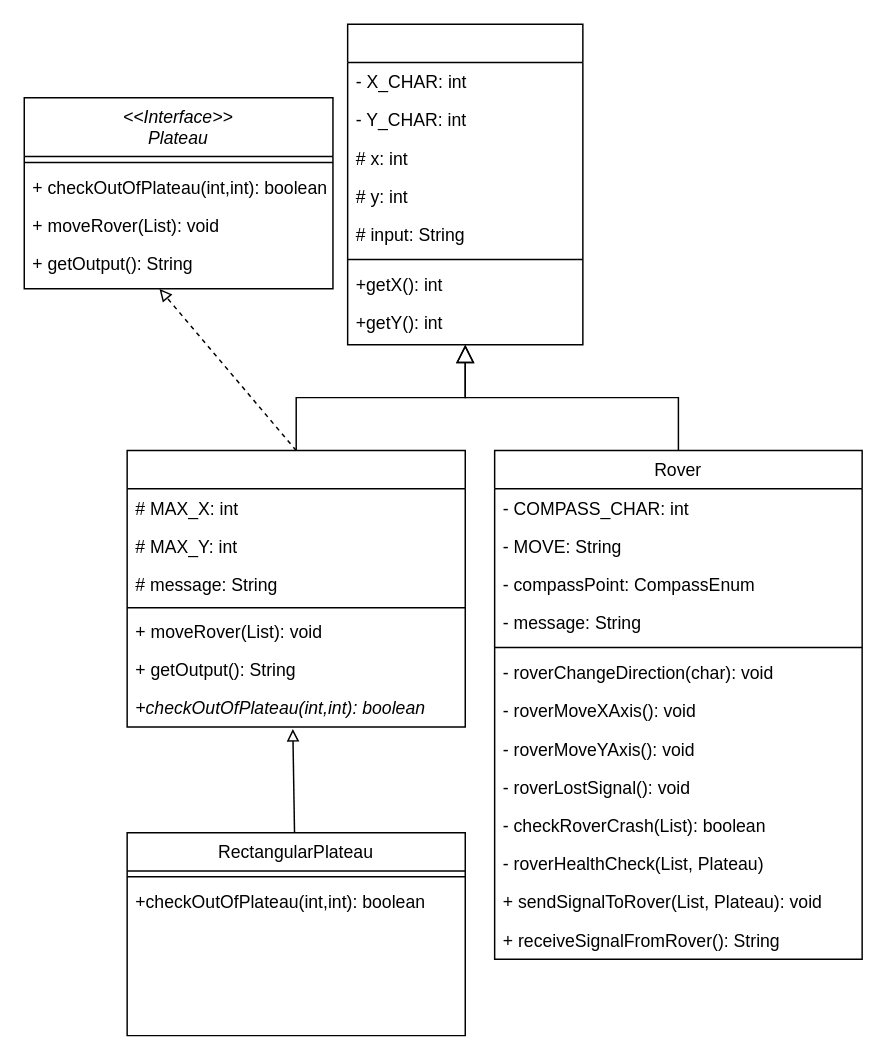
Image size: 886x1060. Some labels were removed from this diagram. Here are the shapes that lost their labels. From the top down, the box of each, then its label:
(346, 23, 583, 345): Coordination
(126, 449, 465, 727): PlateauTemplate
